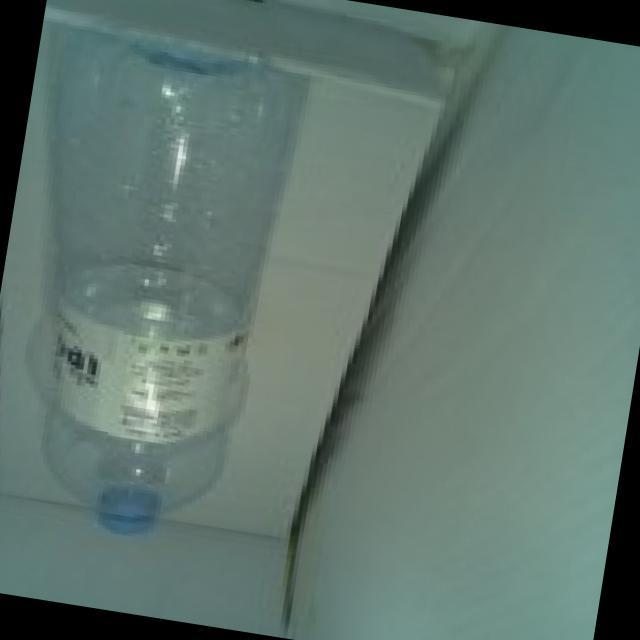good: (0, 3, 336, 569)
